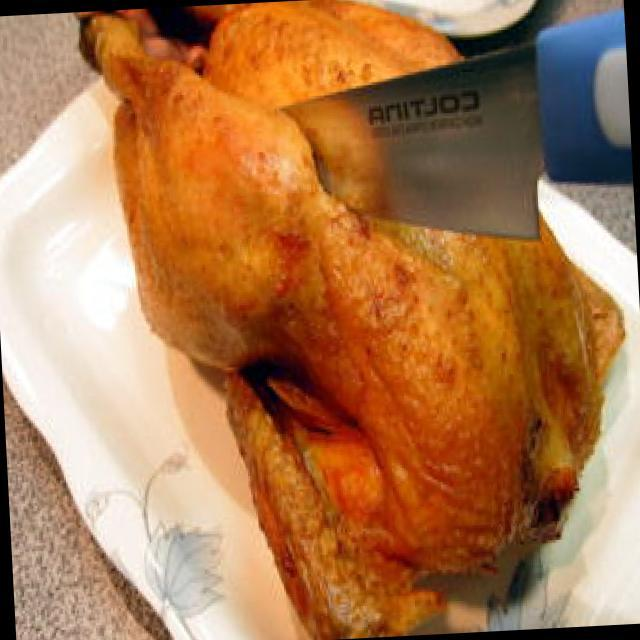Chicken: (91, 0, 551, 610)
